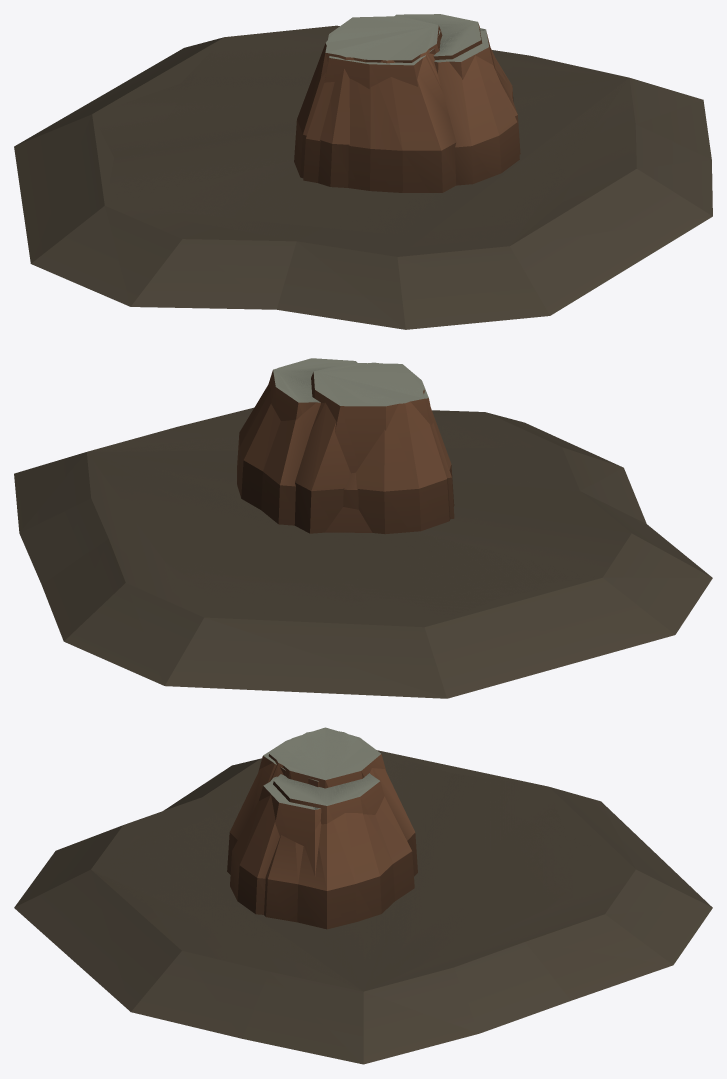
The model's file is neutral_ore_field_stage_01.glb.
3 views of the same model, one above another, from view 1: azimuth 30°, elevation 25°; view 2: azimuth 150°, elevation 25°; view 3: azimuth 270°, elevation 25° (orthographic). The views are drawn at different scales.
Visible parts, largest first — view 1: body (×3); view 2: body (×3); view 3: body (×3).
Boxes of the visible parts, left/top/right/bottom form: body (×3): left=14, top=14, right=712, bottom=329; body (×3): left=14, top=358, right=712, bottom=698; body (×3): left=14, top=727, right=712, bottom=1064.
Bounding box in the file's own units: 2.1 × 0.474 × 1.98.
